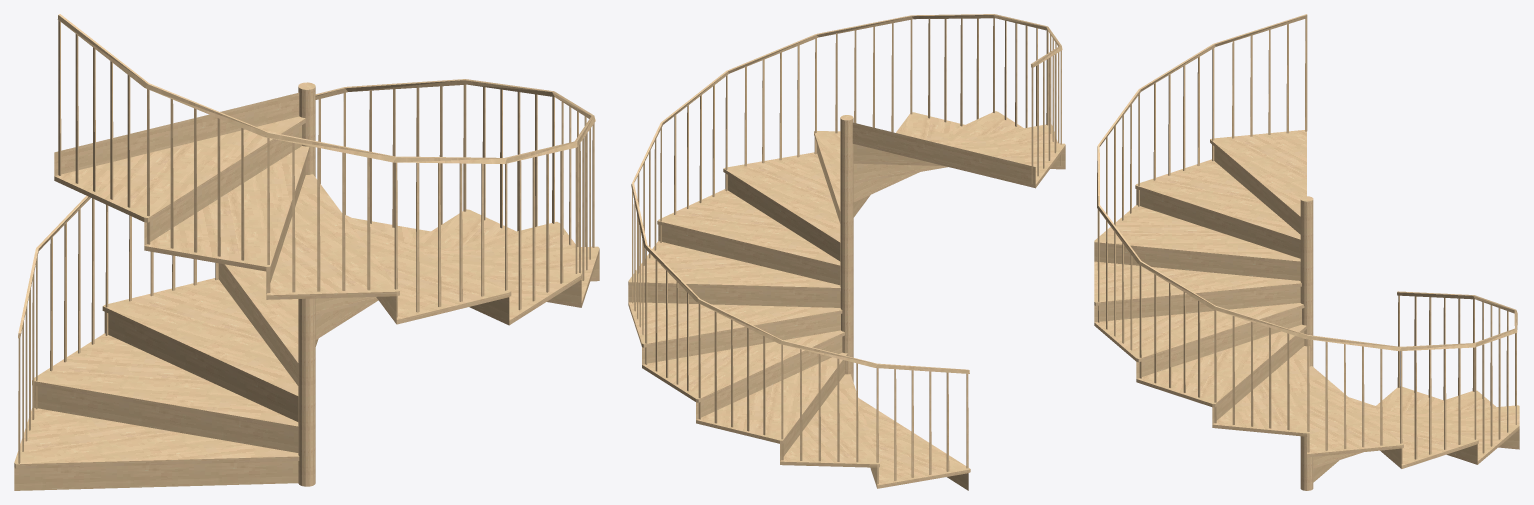
File: sh-contrib-staircase-360-circle.glb
3 views of the same model, side by side, from view 1: azimuth 30°, elevation 25°; view 2: azimuth 150°, elevation 25°; view 3: azimuth 270°, elevation 25° (orthographic). The views are drawn at different scales.
Visible parts, largest first — view 1: 3_3; view 2: 3_3; view 3: 3_3.
Boxes of the visible parts, x1,y1,x2,y2 form: 3_3: (14,14,599,490); 3_3: (628,14,1065,490); 3_3: (1094,14,1519,490).
Bounding box in the file's own units: 1 × 1 × 1.
1 material, 1 textured.
